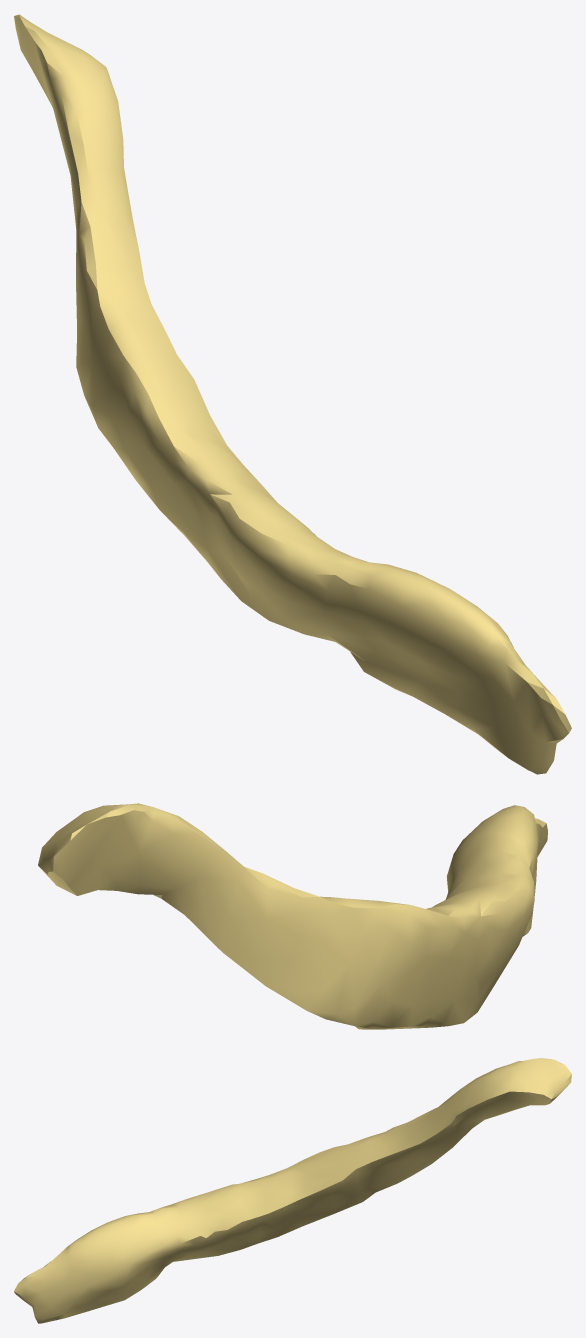
Rendered from fma72736_mm270m.glb.
The picture shows the model from 3 angles, top to bottom: view 1: azimuth 30°, elevation 25°; view 2: azimuth 150°, elevation 25°; view 3: azimuth 270°, elevation 25°; orthographic projection. The views are drawn at different scales.
Parts seen in each view (by area): view 1: FMA72736_MM270M; view 2: FMA72736_MM270M; view 3: FMA72736_MM270M.
Boxes of the visible parts, x1=… form: FMA72736_MM270M: x1=14, y1=14, x2=571, y2=774; FMA72736_MM270M: x1=38, y1=803, x2=547, y2=1029; FMA72736_MM270M: x1=14, y1=1058, x2=571, y2=1323.
Size of the model in its own units: 0.00627 by 0.0158 by 0.0324.
